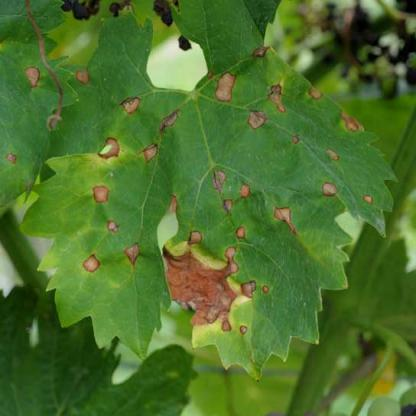grape leaf black rot: (38, 11, 393, 383)
